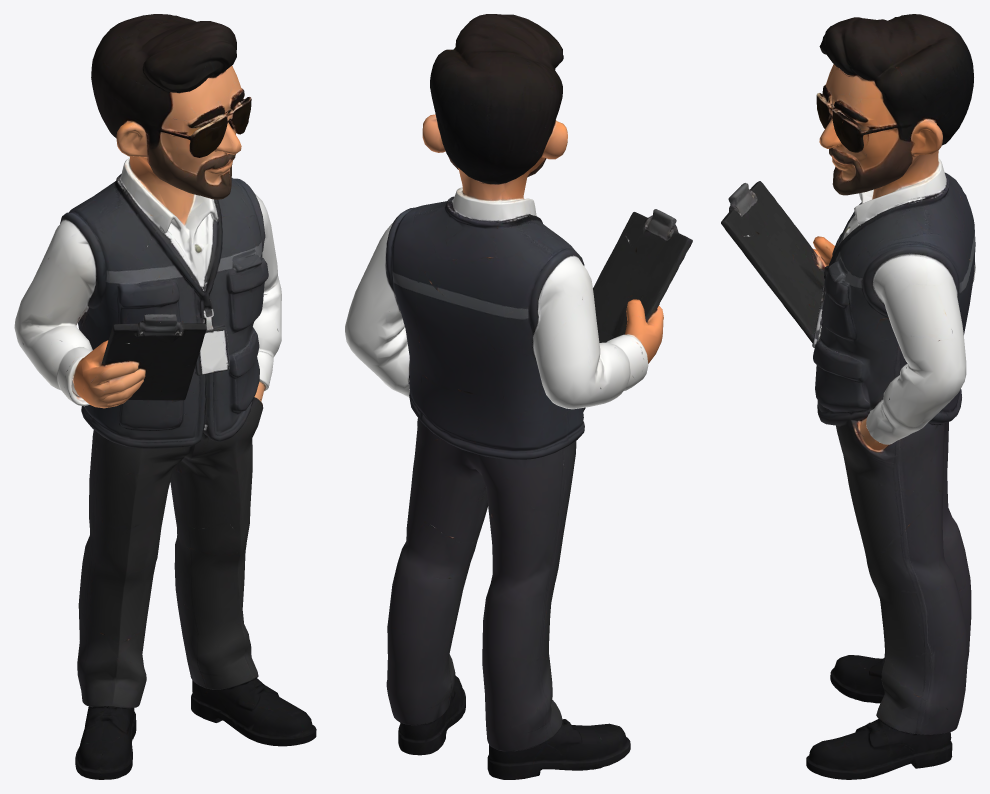
The model's file is field_inspector_commerce.glb.
3 views of the same model, side by side, from view 1: azimuth 30°, elevation 25°; view 2: azimuth 150°, elevation 25°; view 3: azimuth 270°, elevation 25° (orthographic).
Bounding box in the file's own units: 0.7082 × 1.9 × 0.618.
1 material, 1 textured.
